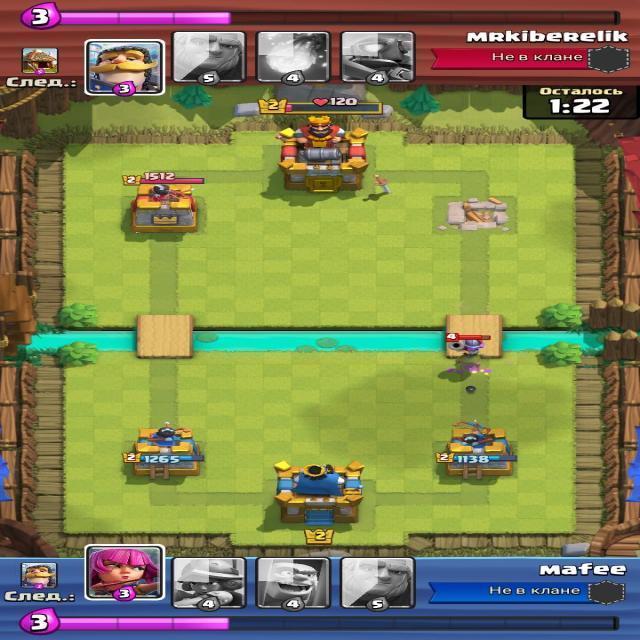EKingTower: (276, 114, 368, 191)
EMusk: (446, 331, 493, 373)
EnemyPrincessTower: (131, 179, 203, 232)
OwnKingTower: (274, 462, 363, 525)
OwnPrincessTower: (434, 421, 515, 476), (126, 426, 203, 478)
TowerDown: (432, 196, 518, 235)
